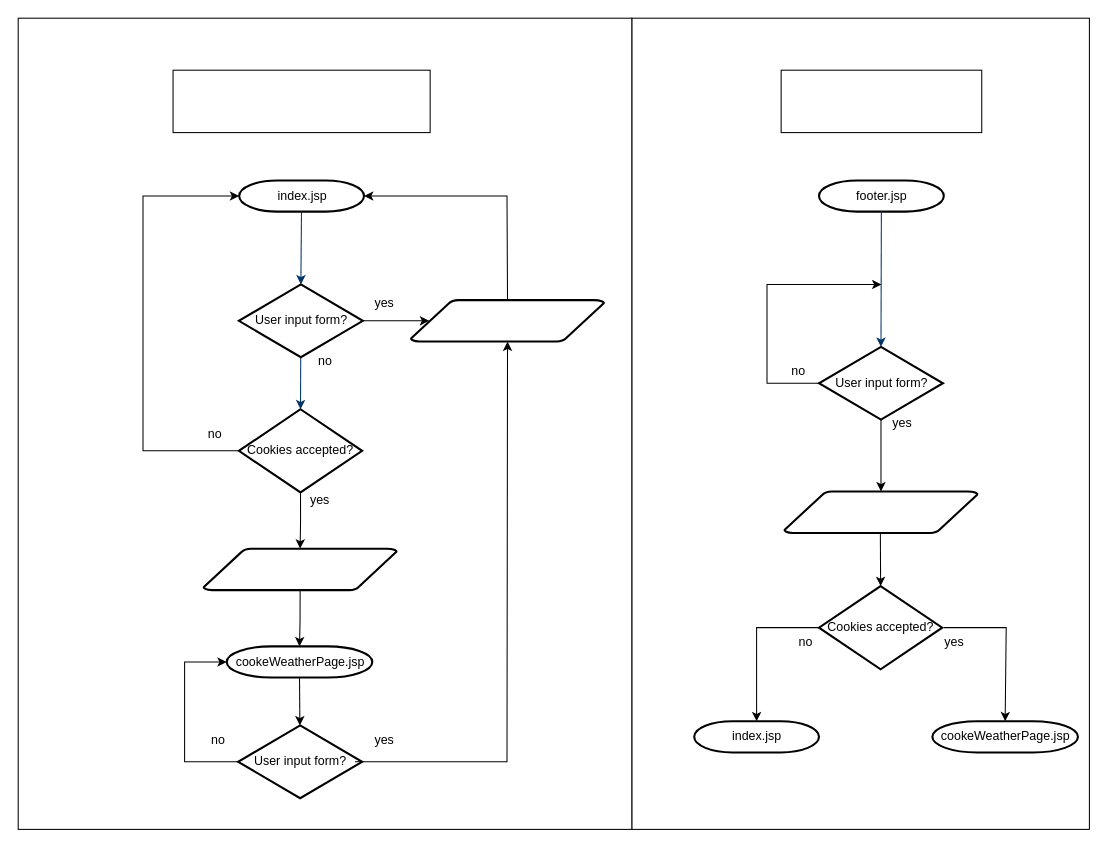
The diagram is 1108 pixels wide and 848 high, and some of its shapes have lost their labels. Each missing label, with the centre of its shape:
"CookieAccept.java" goes at pixel 880 512.
"CookieSearch.java" goes at pixel 299 569.
"Flow for checking cookie acceptance" goes at pixel 881 101.
"OpenWeatherServlet.java" goes at pixel 507 320.
"Overview of flow in the code" goes at pixel 301 101.
